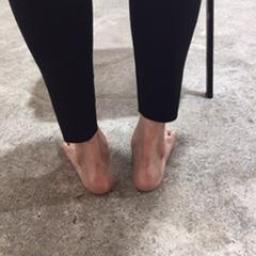Back View -Both Feet-: (51, 117, 186, 203)
